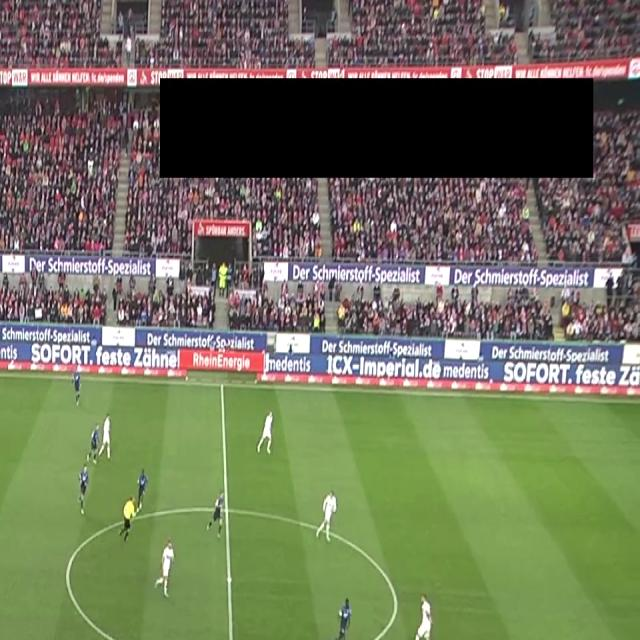referee: (115, 496, 142, 549)
soccer-player: (149, 538, 179, 606), (407, 586, 439, 640), (316, 490, 345, 549), (83, 411, 112, 467), (72, 464, 96, 524), (328, 594, 359, 640), (206, 485, 229, 542), (256, 406, 280, 460), (133, 469, 154, 521), (69, 361, 88, 407), (0, 416, 4, 472)
